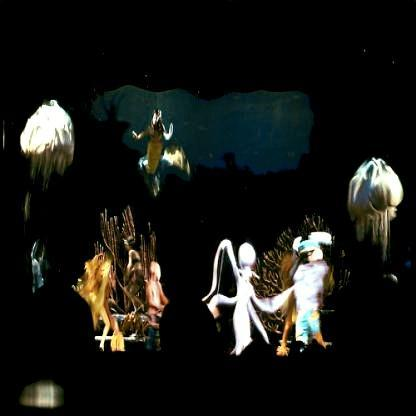GoldThorn: (18, 100, 74, 272), (350, 157, 400, 283)
